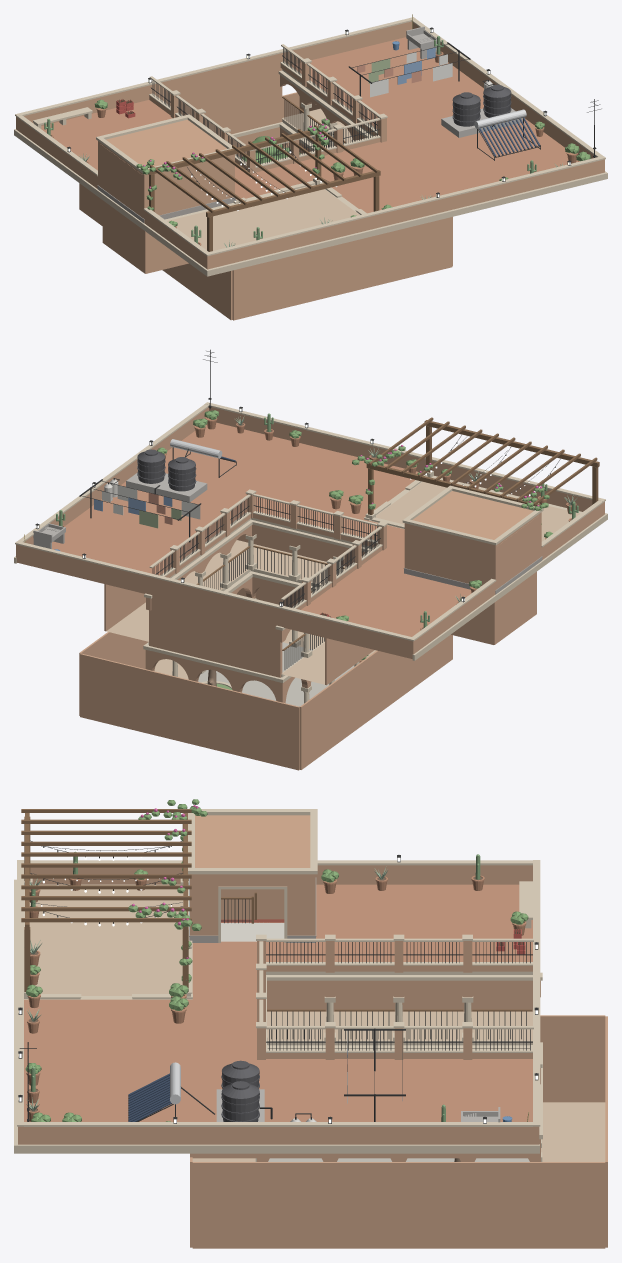
3 renders of one model, top to bottom at view 1: azimuth 30°, elevation 25°; view 2: azimuth 150°, elevation 25°; view 3: azimuth 270°, elevation 25°, orthographic. The views are drawn at different scales.
Parts seen in each view (by area): view 1: az_piso_ladrillo, az_abajo0_pared, az_pergola, az_muro_ph0_0, az_piso_corredor, az_muro_ph300_0, az_entrepiso_cor, az_abajo1_fondo, az_muro_tapa, az_muro_h100_0, az_escalera_cubo, az_barandal_pil (+27 smaller); view 2: az_piso_ladrillo, az_abajo0_pared, az_abajo1_fondo, az_muro_ph300_0, az_pergola, az_abajo1_corredor, az_muro_ph0_0, az_muro_h170_0, az_muro_tapa, az_abajo1_pared, az_barandal_pil, az_barandal_rej (+28 smaller); view 3: az_piso_ladrillo, az_abajo0_pared, az_piso_corredor, az_pergola, az_muro_pv360_0, az_abajo1_pared, az_muro_tapa, az_abajo1_corredor, az_entrepiso_cor, az_barandal_pil, az_barandal_can, az_abajo0_corredor (+29 smaller).
Boxes of the visible parts, left/top/right/bottom form: az_piso_ladrillo: left=41, top=37, right=577, bottom=213; az_abajo0_pared: left=79, top=92, right=452, bottom=320; az_pergola: left=148, top=125, right=380, bottom=251; az_muro_ph0_0: left=205, top=159, right=604, bottom=269; az_piso_corredor: left=167, top=185, right=359, bottom=250; az_muro_ph300_0: left=16, top=21, right=411, bottom=130; az_entrepiso_cor: left=14, top=129, right=607, bottom=276; az_abajo1_fondo: left=159, top=68, right=282, bottom=136; az_muro_tapa: left=98, top=119, right=226, bottom=176; az_muro_h100_0: left=142, top=154, right=234, bottom=218; az_escalera_cubo: left=102, top=200, right=188, bottom=273; az_barandal_pil: left=149, top=62, right=386, bottom=173; az_piso_ladrillo: left=52, top=422, right=471, bottom=636; az_abajo0_pared: left=79, top=585, right=452, bottom=770; az_abajo1_fondo: left=149, top=591, right=282, bottom=677; az_muro_ph300_0: left=16, top=544, right=415, bottom=655; az_pergola: left=366, top=417, right=599, bottom=514; az_abajo1_corredor: left=106, top=540, right=346, bottom=684; az_muro_ph0_0: left=209, top=407, right=604, bottom=515; az_muro_h170_0: left=404, top=525, right=497, bottom=589; az_muro_tapa: left=404, top=491, right=541, bottom=547; az_abajo1_pared: left=104, top=532, right=374, bottom=685; az_barandal_pil: left=165, top=493, right=386, bottom=609; az_barandal_rej: left=152, top=497, right=380, bottom=607; az_piso_ladrillo: left=24, top=884, right=532, bottom=1121; az_abajo0_pared: left=190, top=1015, right=607, bottom=1248; az_piso_corredor: left=29, top=889, right=183, bottom=995; az_pergola: left=21, top=809, right=191, bottom=991; az_muro_pv360_0: left=23, top=1126, right=533, bottom=1144; az_abajo1_pared: left=190, top=985, right=536, bottom=1158; az_muro_tapa: left=191, top=815, right=315, bottom=877; az_abajo1_corredor: left=267, top=1011, right=532, bottom=1040; az_entrepiso_cor: left=14, top=879, right=539, bottom=1153; az_barandal_pil: left=257, top=941, right=532, bottom=1059; az_barandal_can: left=256, top=934, right=533, bottom=1052; az_abajo0_corredor: left=192, top=1102, right=605, bottom=1161.
Bounding box in the file's own units: 36.94 × 16.7 × 34.53.
